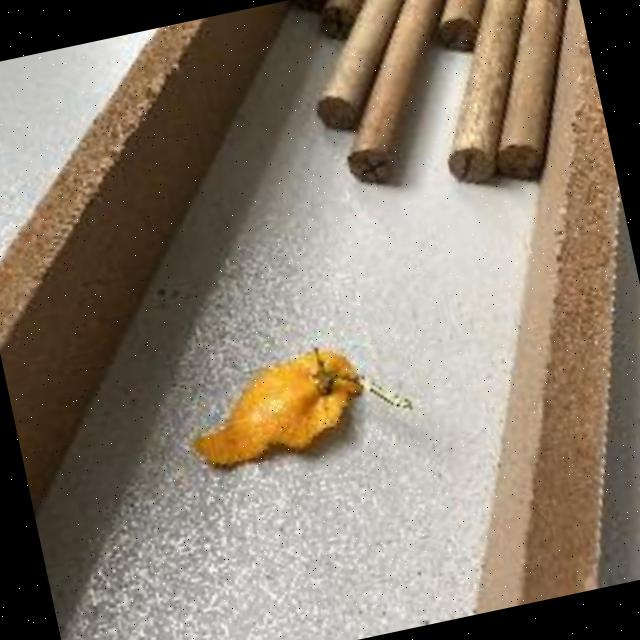orange-peel: (176, 336, 376, 476)
